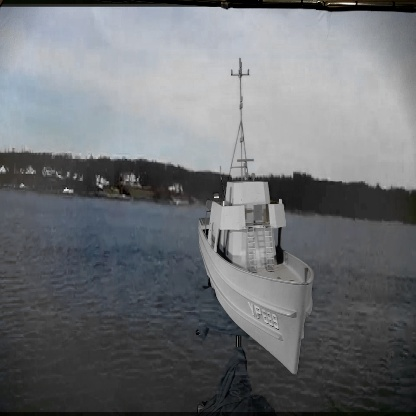YP689: (197, 59, 316, 378)
